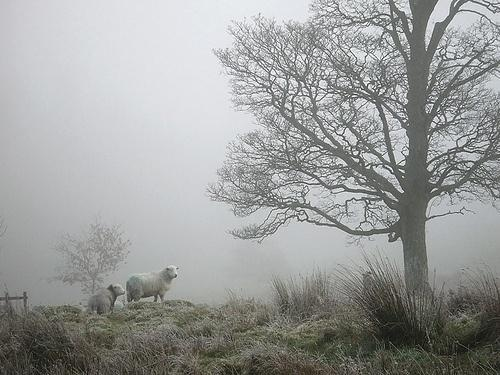sheep: (131, 266, 177, 304), (86, 285, 127, 315)
